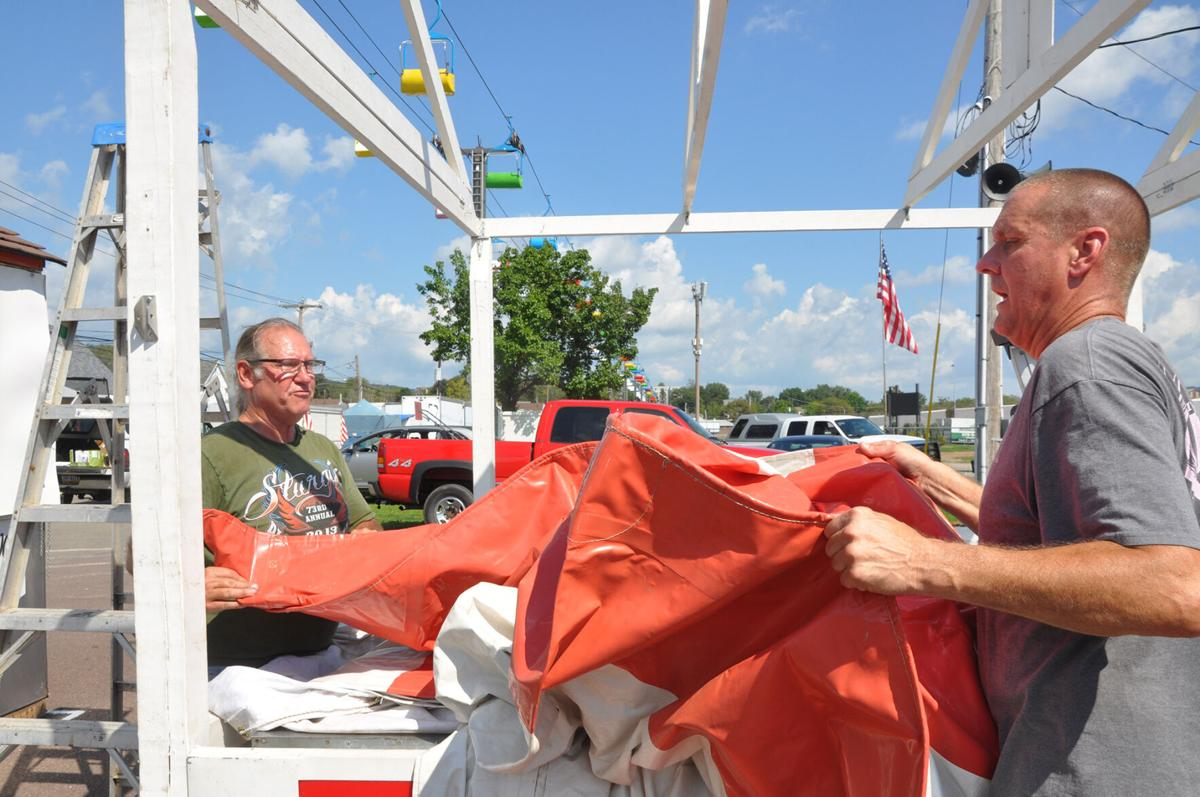person: (814, 169, 1199, 797), (204, 320, 386, 686)
